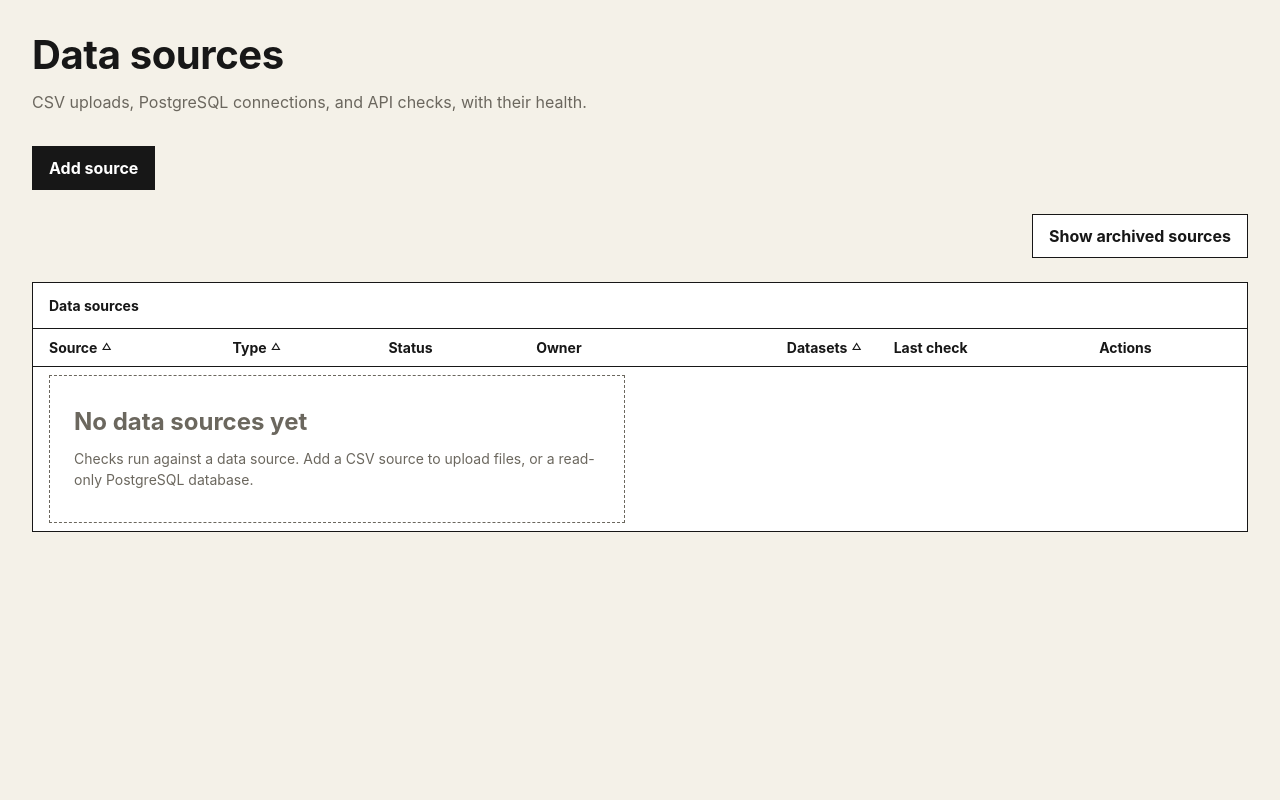
Test: Add CSV source › lets a data engineer add one, then shows it
The image size is (1280, 800).
Click the button "Add source". click: (94, 168)
box: [32,146,155,190]
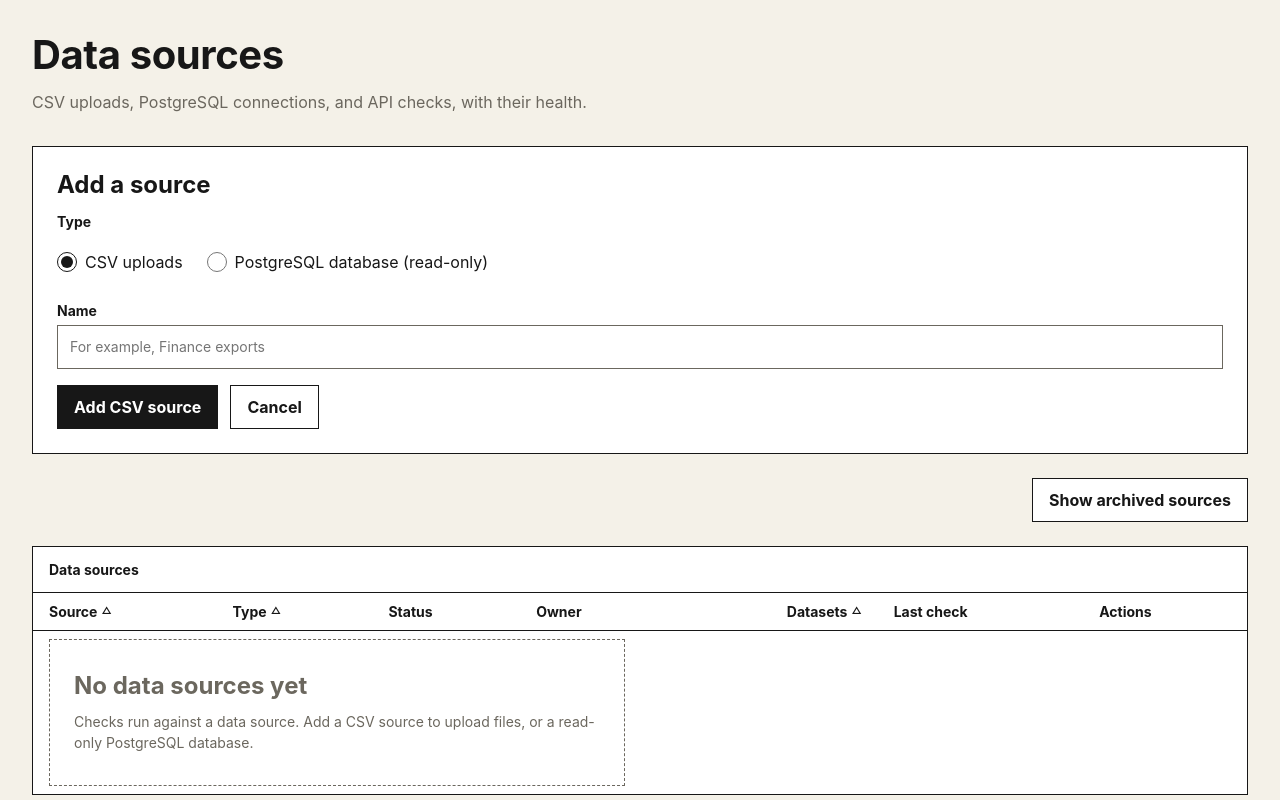
Type "Exports" into the field labelled "Name". click: (640, 347)
box: [57,325,1223,369]
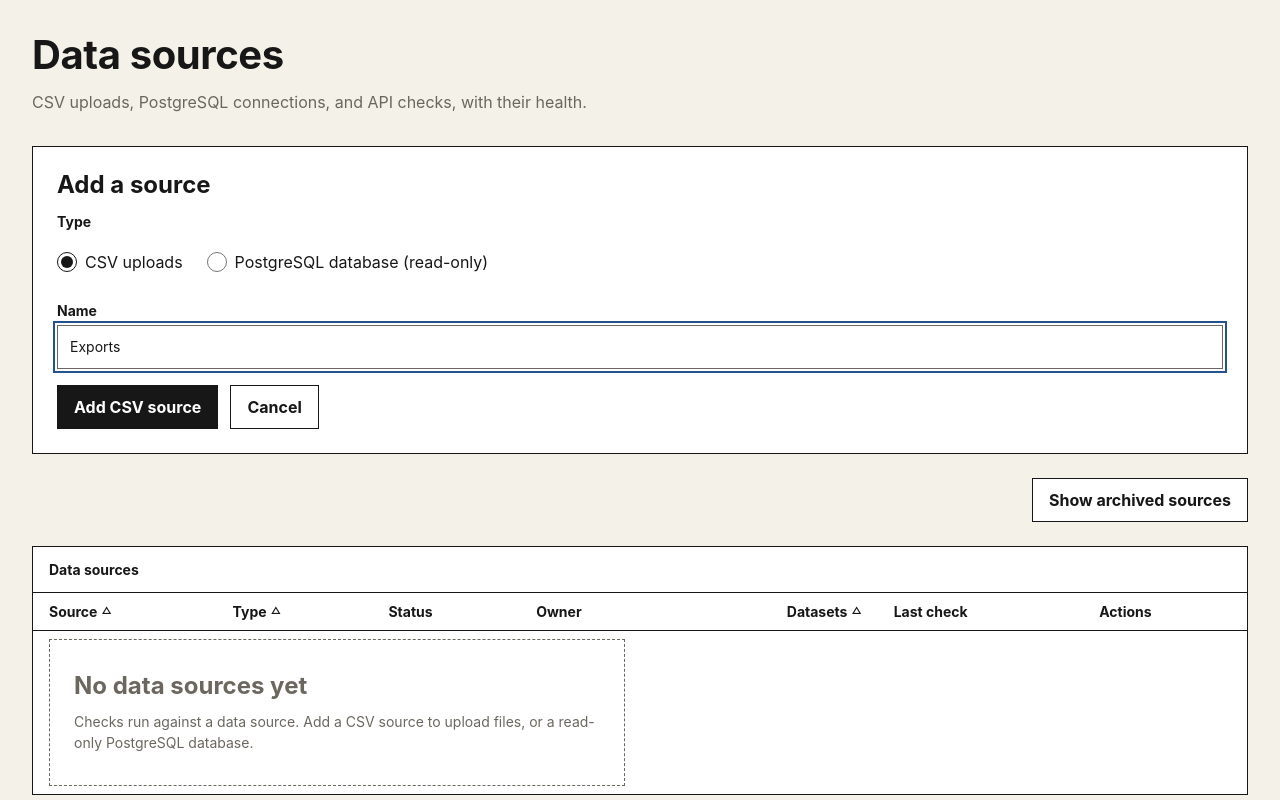
Click the button "Add CSV source". click: (138, 407)
box: [57,385,218,429]
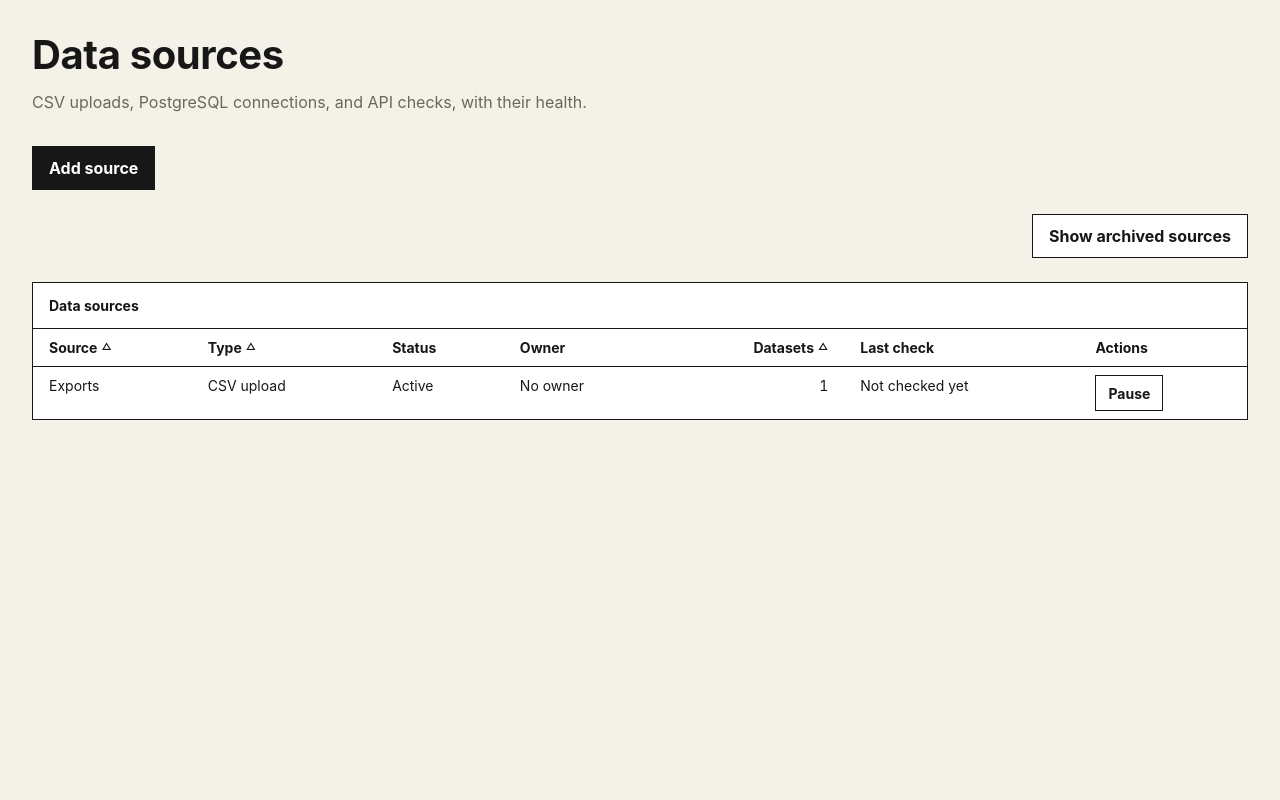
Now the text "Exports" is shown, box [33,366,192,419]
